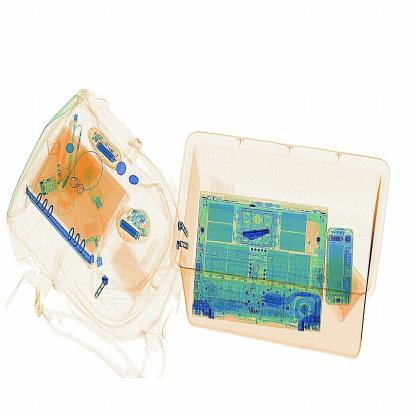knife: (238, 225, 288, 256)
